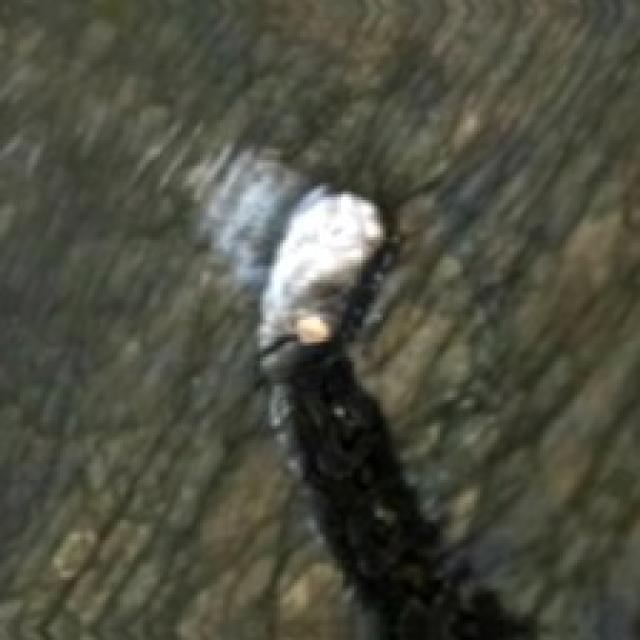reticulated python: (203, 149, 534, 637)
